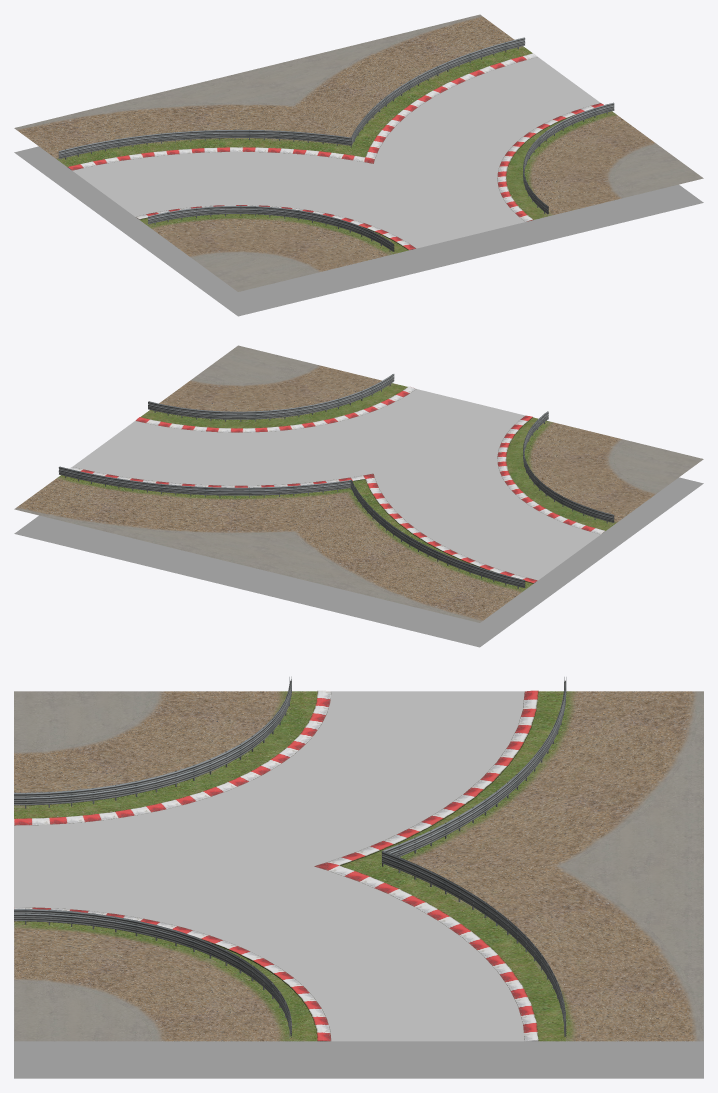
Rendered from Track_Split_A_Gravel.fbx.
The picture shows the model from 3 angles, top to bottom: view 1: azimuth 30°, elevation 25°; view 2: azimuth 150°, elevation 25°; view 3: azimuth 270°, elevation 25°; orthographic projection. The views are drawn at different scales.
Parts seen in each view (by area): view 1: Road, Gravel_A, Snap_Plane_Invisible, Gravel_B, Gravel_C, Grass, Concrete_A, Rail_C, Curb_C, Concrete_B, Concrete_C, Rail_B (+3 smaller); view 2: Road, Gravel_A, Snap_Plane_Invisible, Gravel_B, Concrete_A, Gravel_C, Grass, Rail_C, Concrete_C, Concrete_B, Rail_A, Curb_C (+3 smaller); view 3: Road, Gravel_A, Snap_Plane_Invisible, Gravel_C, Grass, Gravel_B, Concrete_A, Concrete_C, Curb_C, Concrete_B, Rail_C, Rail_B (+3 smaller).
Boxes of the visible parts, x1,y1,x2,y2 form: Road: [72, 57, 600, 248]; Gravel_A: [14, 14, 524, 160]; Snap_Plane_Invisible: [14, 146, 703, 316]; Gravel_B: [149, 216, 392, 272]; Gravel_C: [524, 113, 658, 216]; Grass: [59, 47, 613, 254]; Concrete_A: [22, 16, 472, 126]; Rail_C: [58, 37, 525, 159]; Curb_C: [67, 53, 537, 221]; Concrete_B: [194, 254, 315, 291]; Concrete_C: [614, 145, 703, 197]; Rail_B: [148, 205, 394, 251]; Road: [72, 389, 600, 580]; Gravel_A: [14, 477, 523, 622]; Snap_Plane_Invisible: [14, 477, 703, 647]; Gravel_B: [525, 421, 658, 524]; Concrete_A: [20, 510, 473, 621]; Gravel_C: [149, 364, 392, 421]; Grass: [59, 383, 613, 590]; Rail_C: [58, 466, 525, 588]; Concrete_C: [194, 345, 315, 383]; Concrete_B: [614, 440, 703, 491]; Rail_A: [148, 374, 394, 421]; Curb_C: [69, 467, 537, 583]; Road: [14, 691, 524, 1041]; Gravel_A: [380, 691, 703, 1041]; Snap_Plane_Invisible: [14, 863, 703, 1078]; Gravel_C: [14, 924, 289, 1041]; Grass: [14, 691, 565, 1041]; Gravel_B: [14, 691, 287, 807]; Concrete_A: [567, 693, 703, 1039]; Concrete_C: [14, 983, 151, 1041]; Curb_C: [314, 690, 538, 1041]; Concrete_B: [14, 691, 151, 749]; Rail_C: [381, 677, 566, 1037]; Rail_B: [14, 676, 291, 808].
Size of the model in its own units: 60.03 by 4.24 by 50.01.
